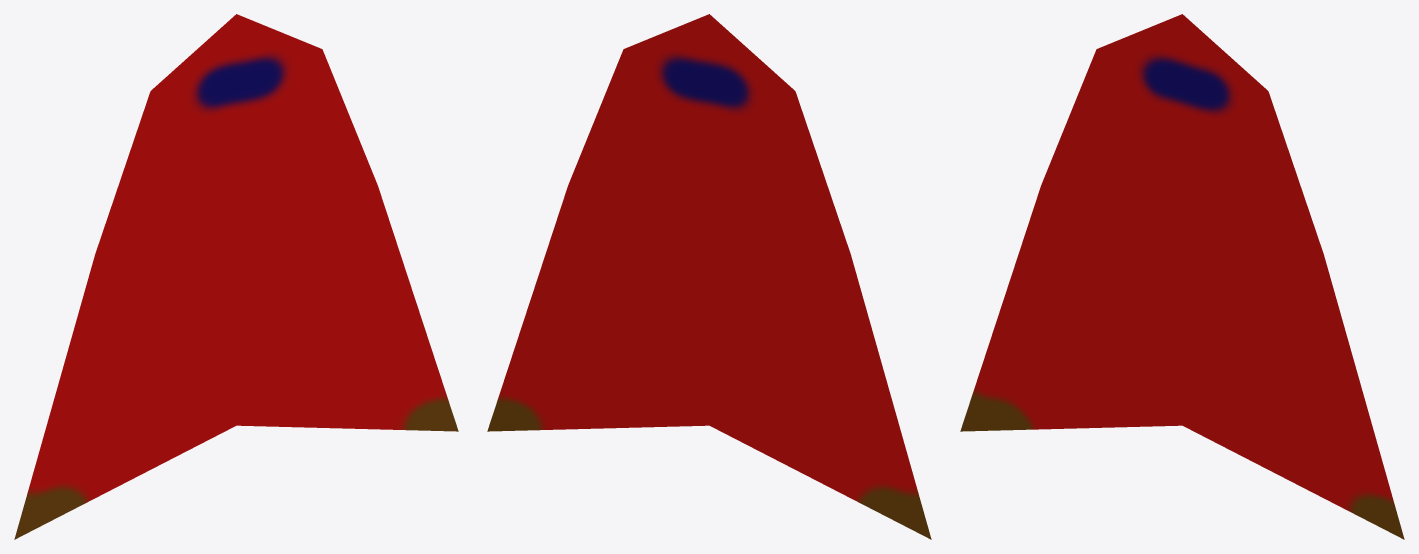
Rendered from ship.gltf.
3 renders of one model, left to right at view 1: azimuth 30°, elevation 25°; view 2: azimuth 150°, elevation 25°; view 3: azimuth 330°, elevation 25°, orthographic.
Visible parts, largest first — view 1: Plane; view 2: Plane; view 3: Plane.
Part boxes in pixels (x1=…): Plane: x1=14, y1=14, x2=458, y2=539; Plane: x1=487, y1=14, x2=931, y2=539; Plane: x1=960, y1=14, x2=1404, y2=539.
Bounding box in the file's own units: 22.59 × 22.92 × 0.
Materials: 1 (1 with a texture image).
